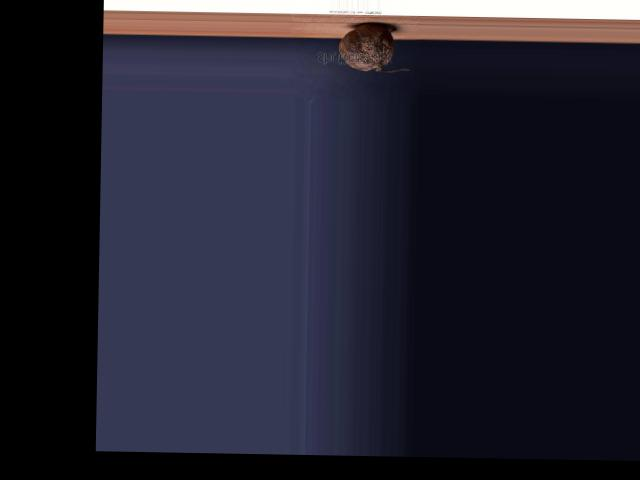beet: (338, 23, 412, 72)
